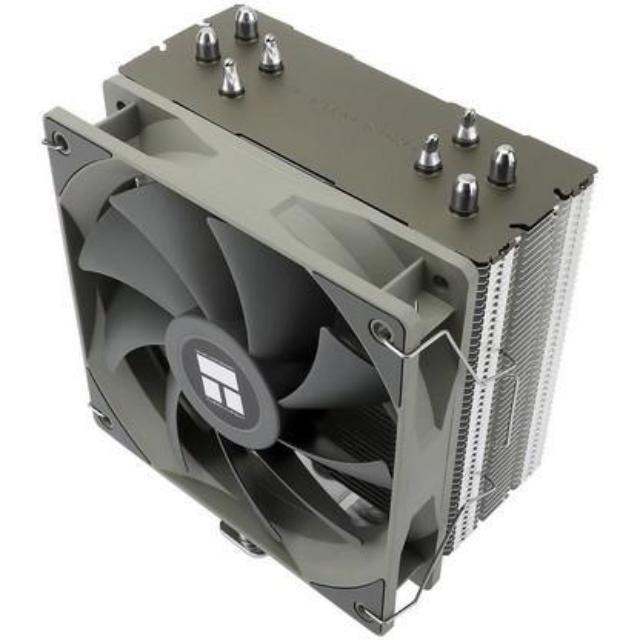CPU_Fan: (29, 5, 617, 637)
